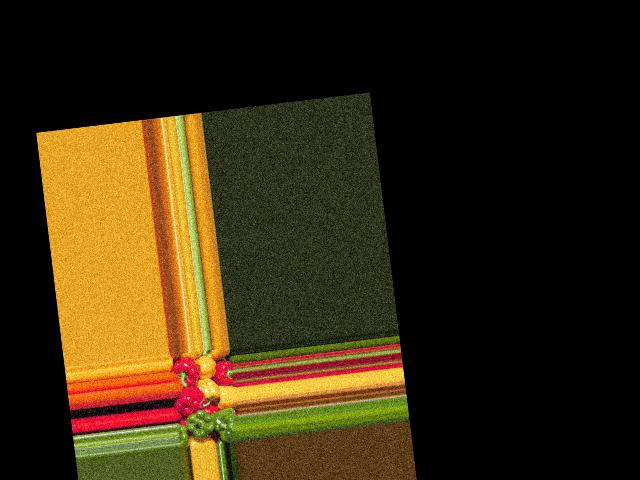bell_pepper: (175, 421, 193, 449)
